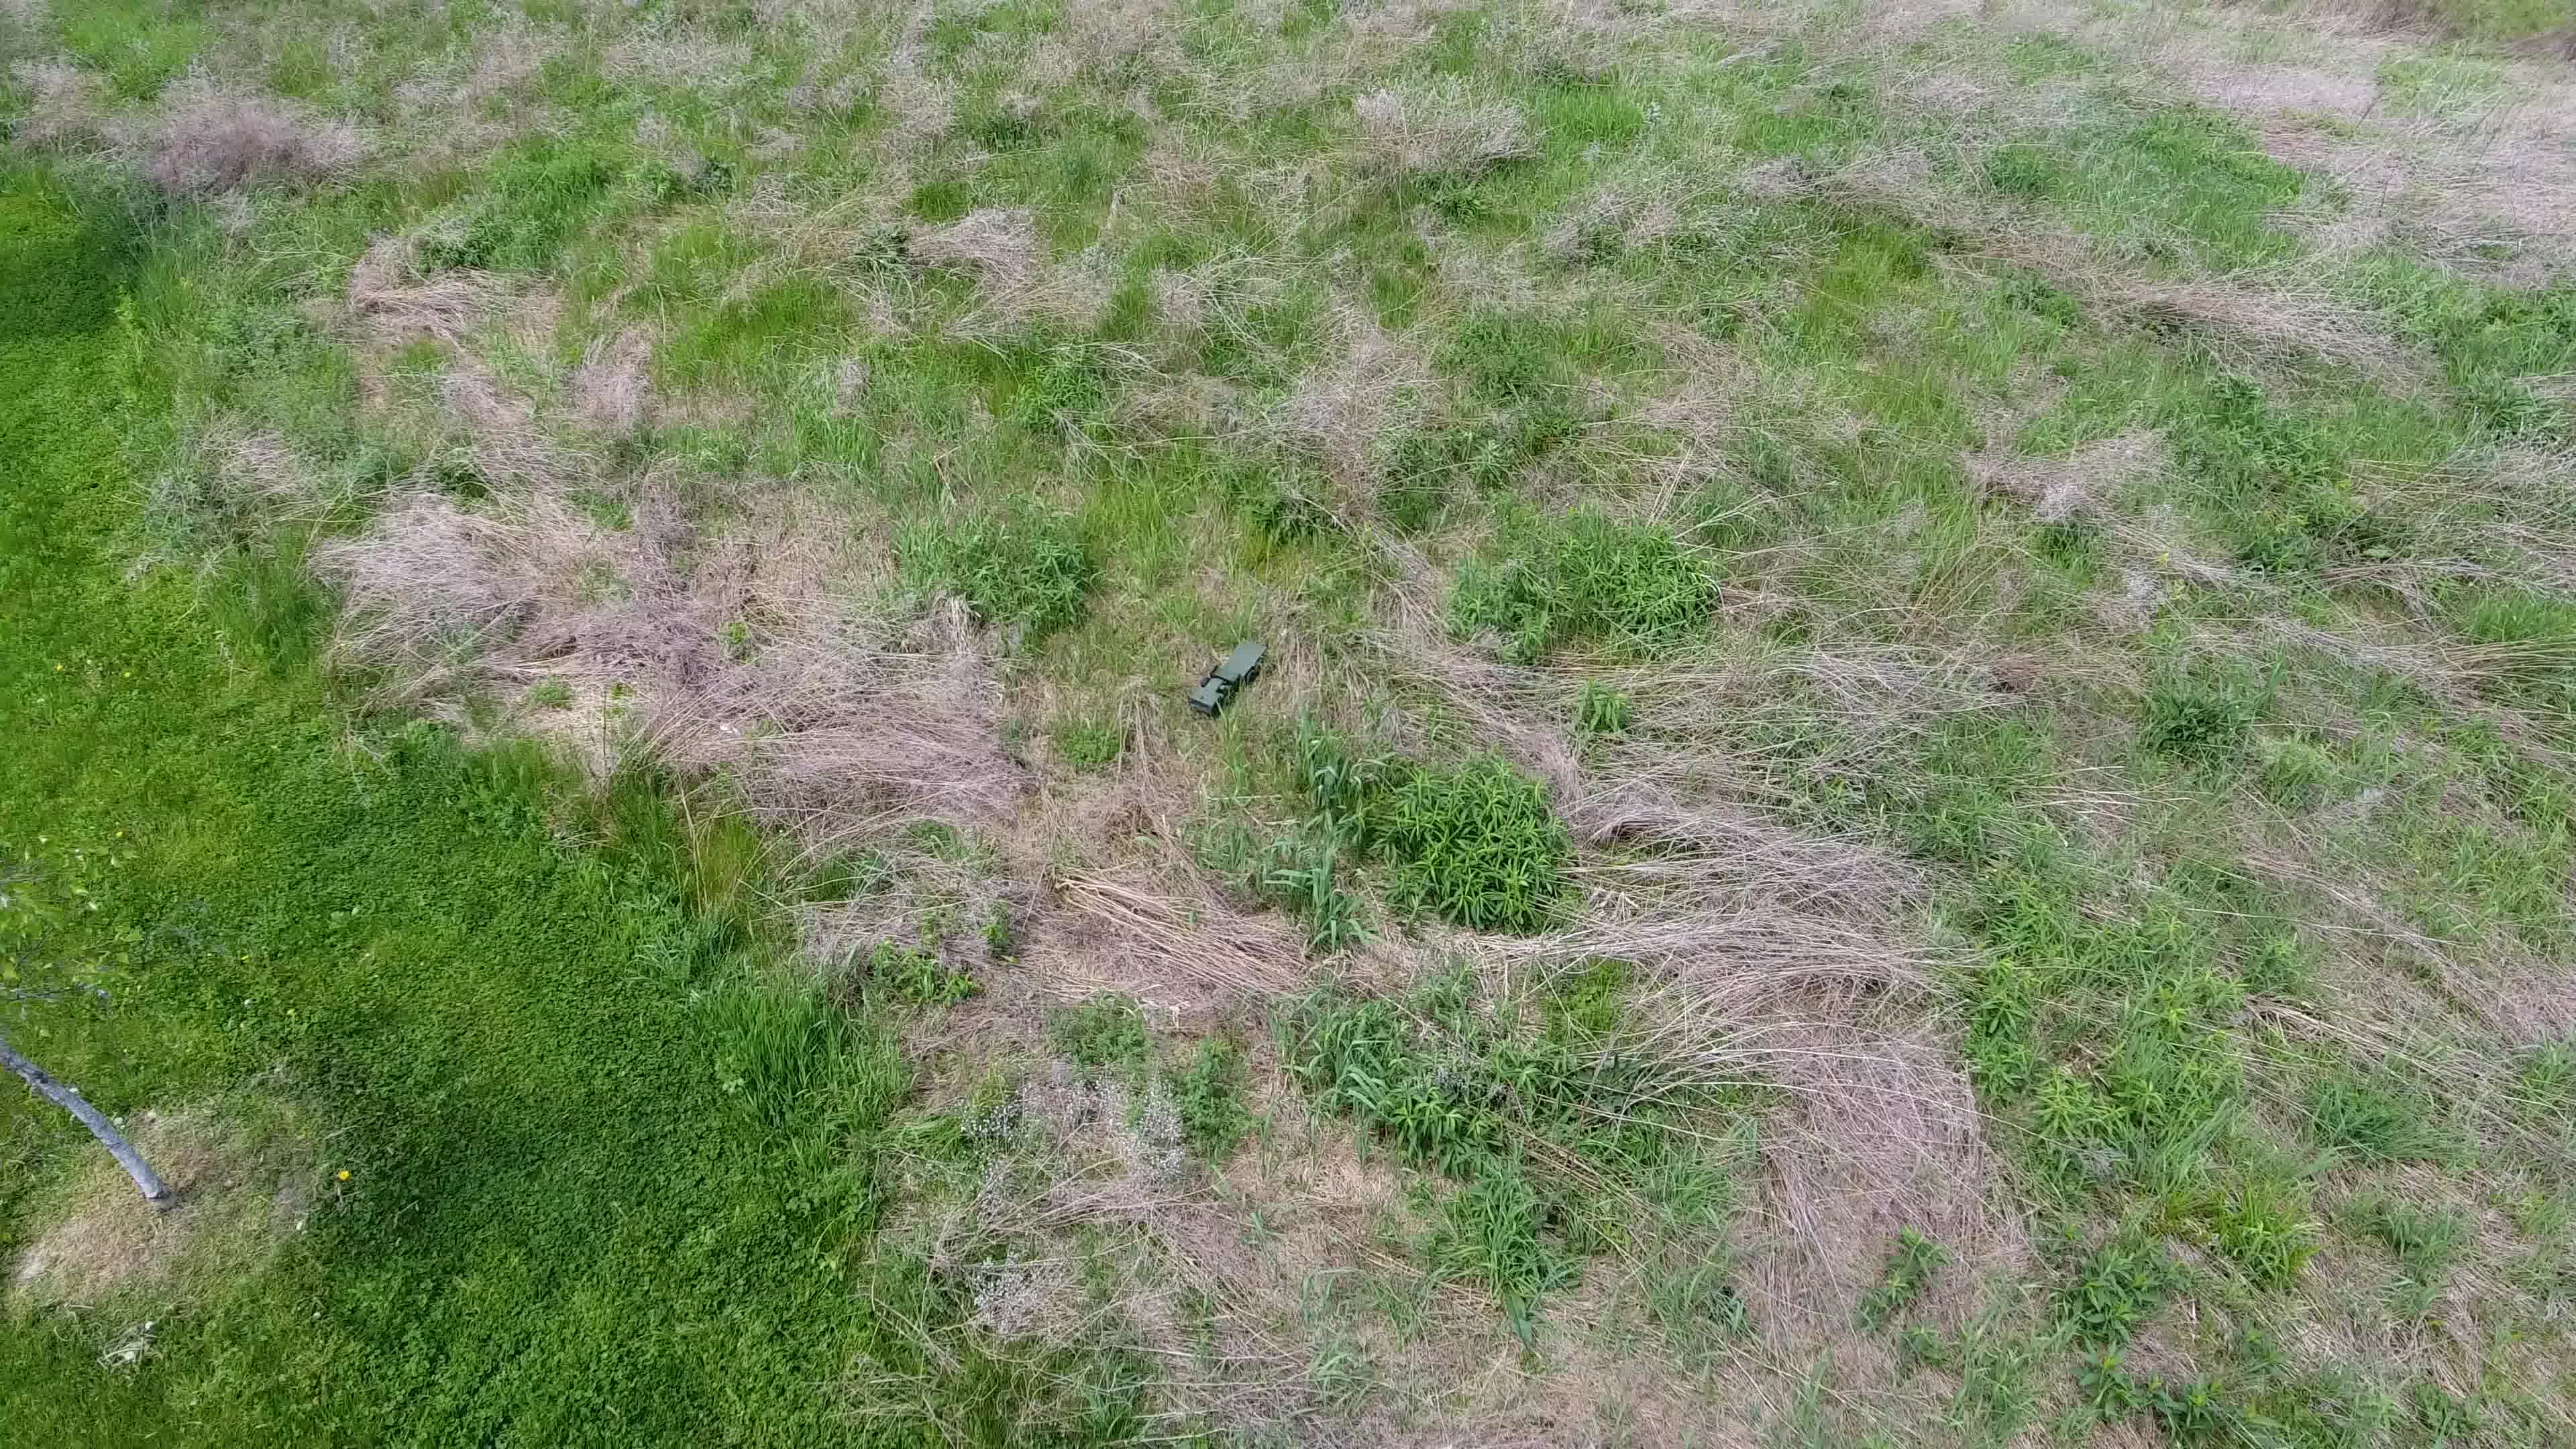transporter9: (1182, 635, 1269, 720)
